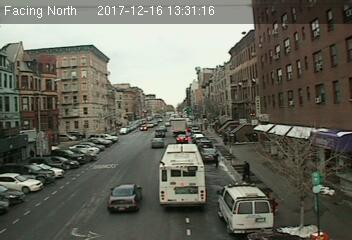bus: (158, 142, 207, 209)
car: (107, 184, 143, 211), (202, 148, 218, 164), (176, 134, 188, 143), (151, 138, 163, 147)
pedestrian: (241, 158, 253, 184)
police: (217, 179, 276, 233)
